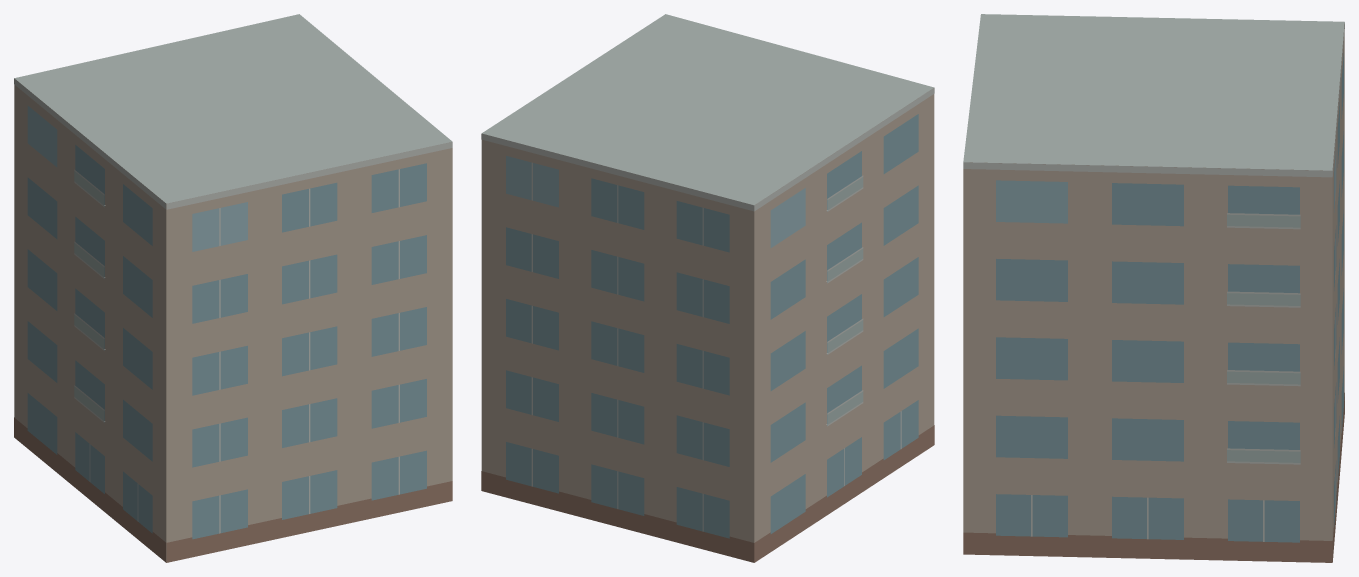
File: survey-upis-32743904.glb
3 renders of one model, left to right at view 1: azimuth 30°, elevation 25°; view 2: azimuth 150°, elevation 25°; view 3: azimuth 270°, elevation 25°, orthographic. The views are drawn at different scales.
Visible parts, largest first — view 1: survey-upis-32743904.tmp; view 2: survey-upis-32743904.tmp; view 3: survey-upis-32743904.tmp.
Part boxes in pixels (x1,y1,x2,y2): survey-upis-32743904.tmp: [14, 14, 452, 562]; survey-upis-32743904.tmp: [481, 14, 934, 562]; survey-upis-32743904.tmp: [963, 14, 1344, 562].
Bounding box in the file's own units: 12.17 × 14.2 × 12.53.
